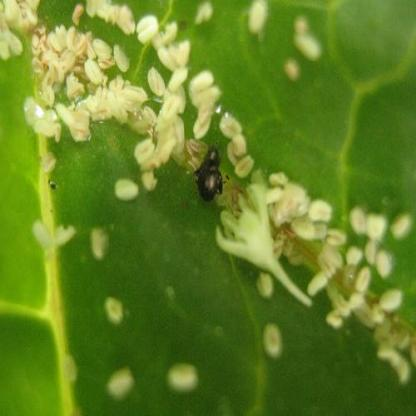beetle: (191, 138, 228, 209)
